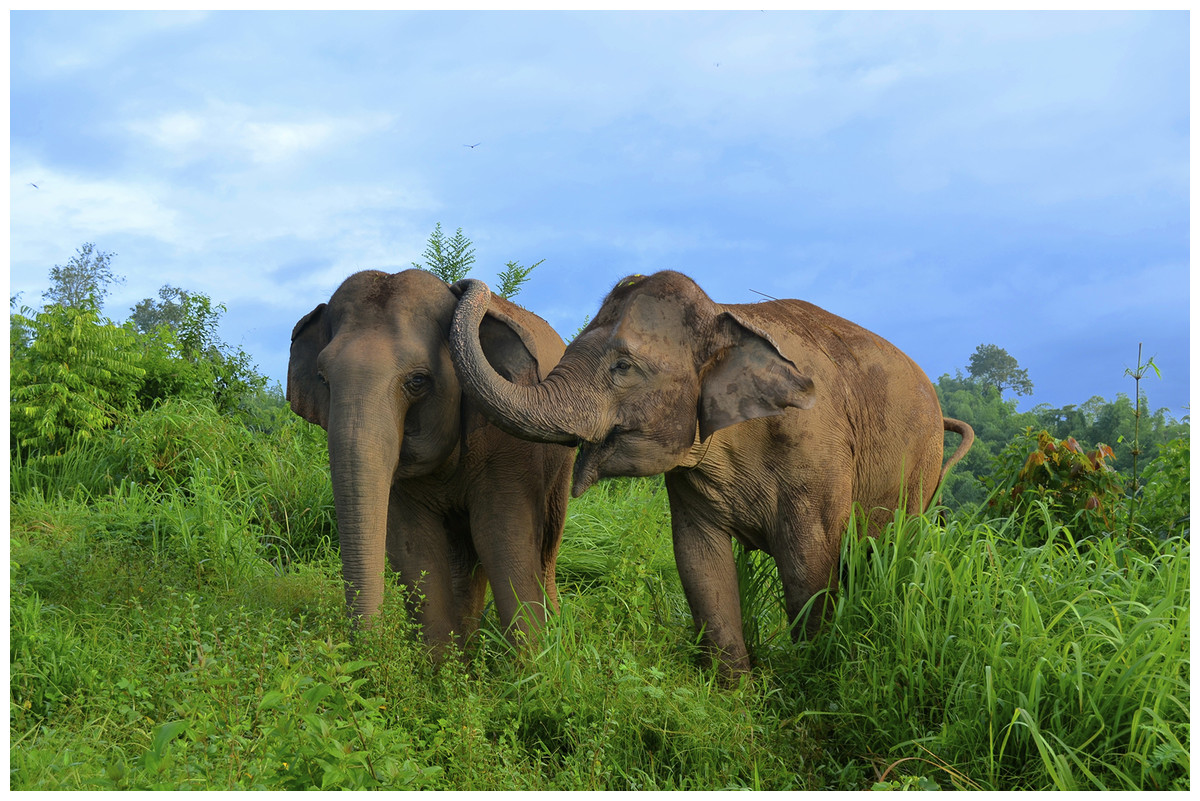Adult Elephant: (454, 237, 996, 679), (201, 242, 573, 687)
